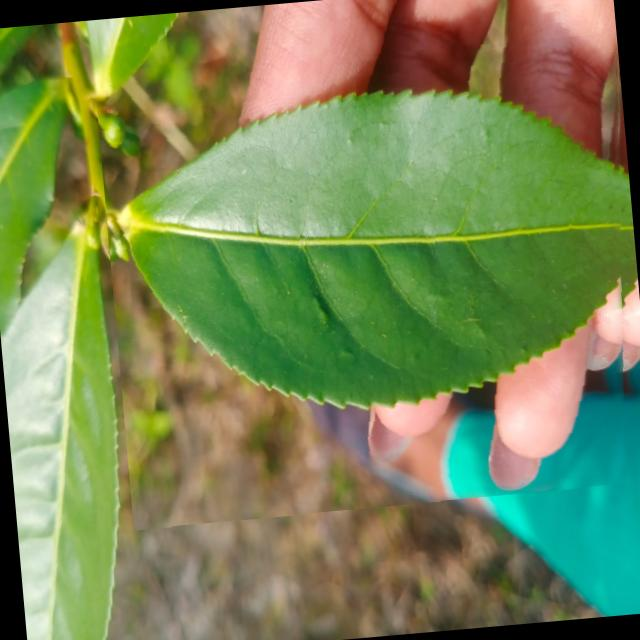Category D 7+ days, Not for Tea: (93, 31, 640, 529)
